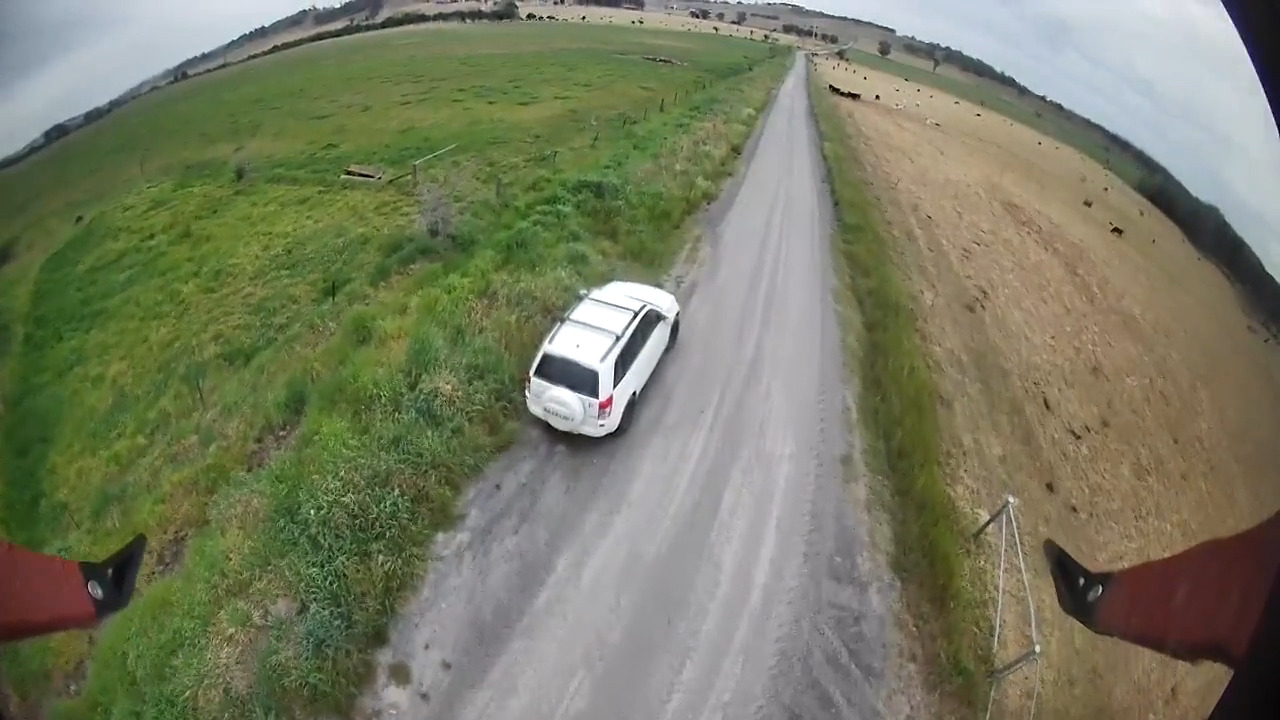Car: (523, 280, 680, 438)
